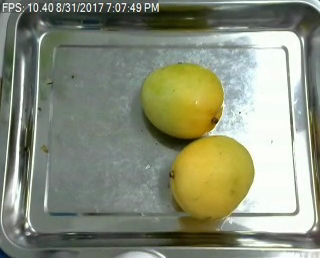Mango: (167, 136, 253, 219), (138, 64, 223, 139)
